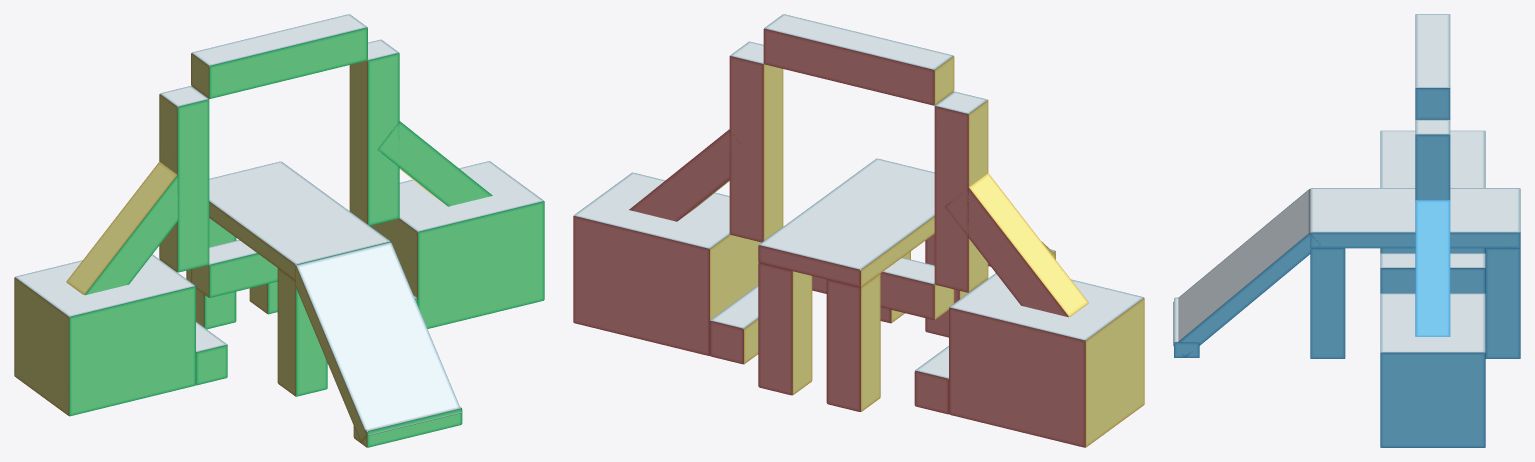
The model's file is techportal.obj.
The picture shows the model from 3 angles, left to right: view 1: azimuth 30°, elevation 25°; view 2: azimuth 150°, elevation 25°; view 3: azimuth 270°, elevation 25°; orthographic projection. The views are drawn at different scales.
Parts seen in each view (by area): view 1: portal_frame_bot; view 2: portal_frame_bot; view 3: portal_frame_bot.
Part boxes in pixels (x1,y1,x2,y2): portal_frame_bot: (14, 14, 544, 447); portal_frame_bot: (573, 14, 1144, 447); portal_frame_bot: (1173, 14, 1520, 447).
Bounding box in the file's own units: 15 × 9 × 9.9.
